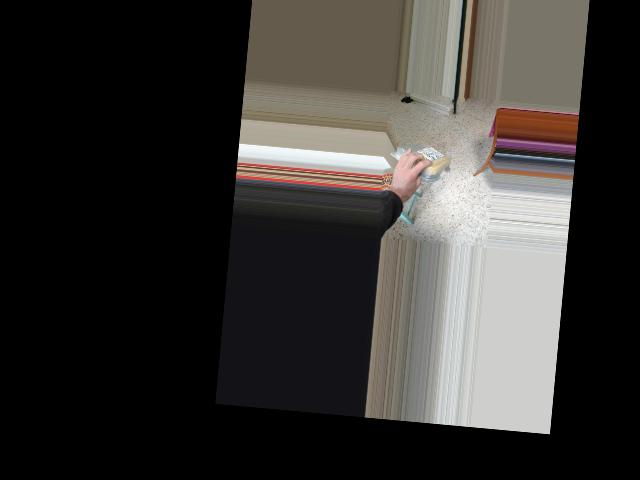cheese: (389, 141, 452, 177)
